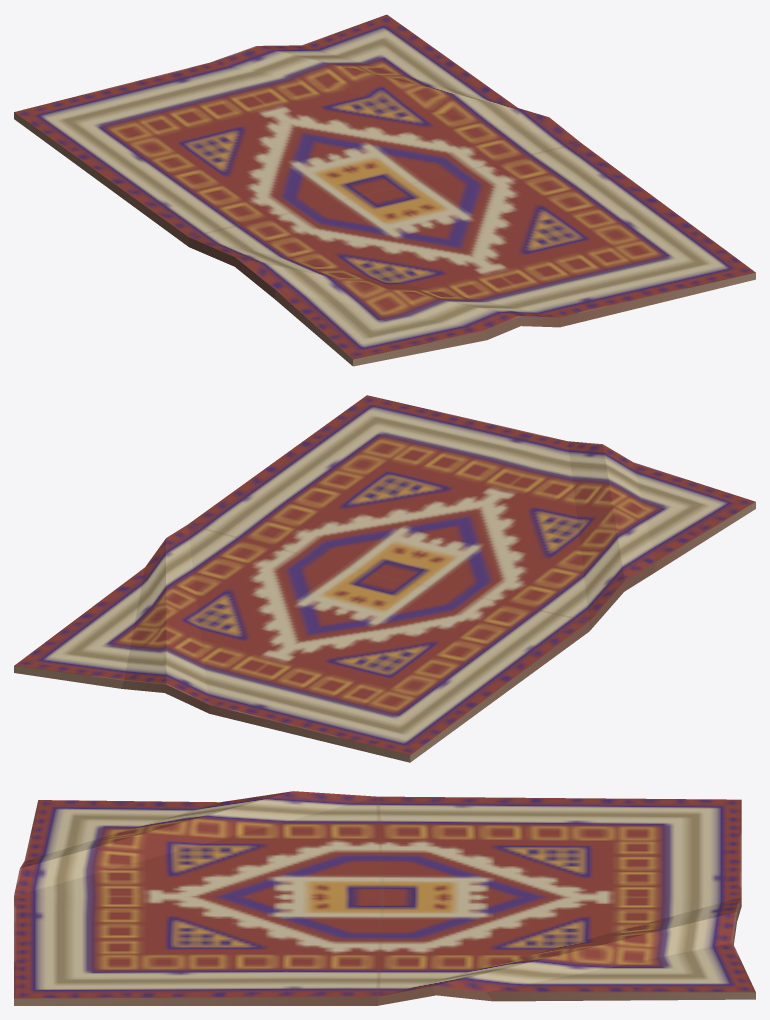
Rendered from SM_Prop_Rug_07.glb.
3 views of the same model, one above another, from view 1: azimuth 30°, elevation 25°; view 2: azimuth 150°, elevation 25°; view 3: azimuth 270°, elevation 25° (orthographic). The views are drawn at different scales.
Parts seen in each view (by area): view 1: SM_Prop_Rug_07; view 2: SM_Prop_Rug_07; view 3: SM_Prop_Rug_07.
Boxes of the visible parts, bbox=[...] form: SM_Prop_Rug_07: bbox=[14, 14, 755, 366]; SM_Prop_Rug_07: bbox=[14, 395, 755, 762]; SM_Prop_Rug_07: bbox=[14, 791, 755, 1005].
Size of the model in its own units: 1.97 by 0.0908 by 3.1.
1 material, 1 textured.
